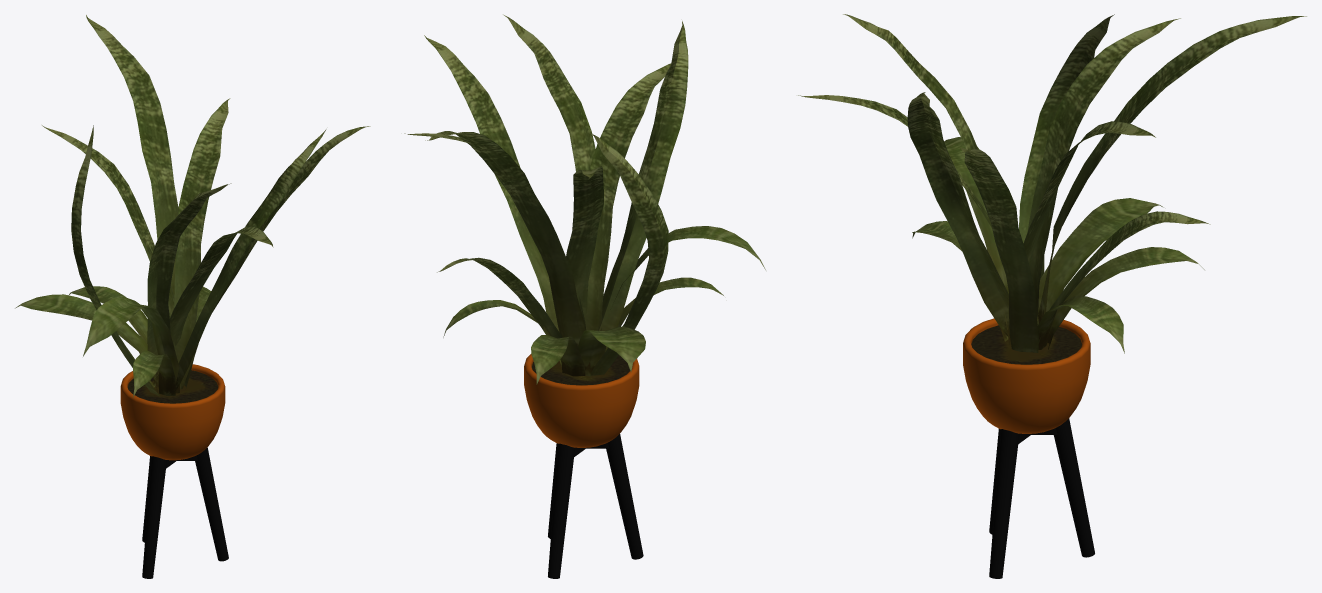
File: plant_large.glb
The picture shows the model from 3 angles, left to right: view 1: azimuth 30°, elevation 25°; view 2: azimuth 150°, elevation 25°; view 3: azimuth 270°, elevation 25°; orthographic projection. The views are drawn at different scales.
Parts seen in each view (by area): view 1: houseplant_8; view 2: houseplant_8; view 3: houseplant_8.
Boxes of the visible parts, x1,y1,x2,y2 form: houseplant_8: [15, 15, 370, 578]; houseplant_8: [404, 14, 765, 578]; houseplant_8: [798, 14, 1306, 578].
Size of the model in its own units: 0.4988 by 0.7228 by 0.6037.
4 materials, 2 textured.
